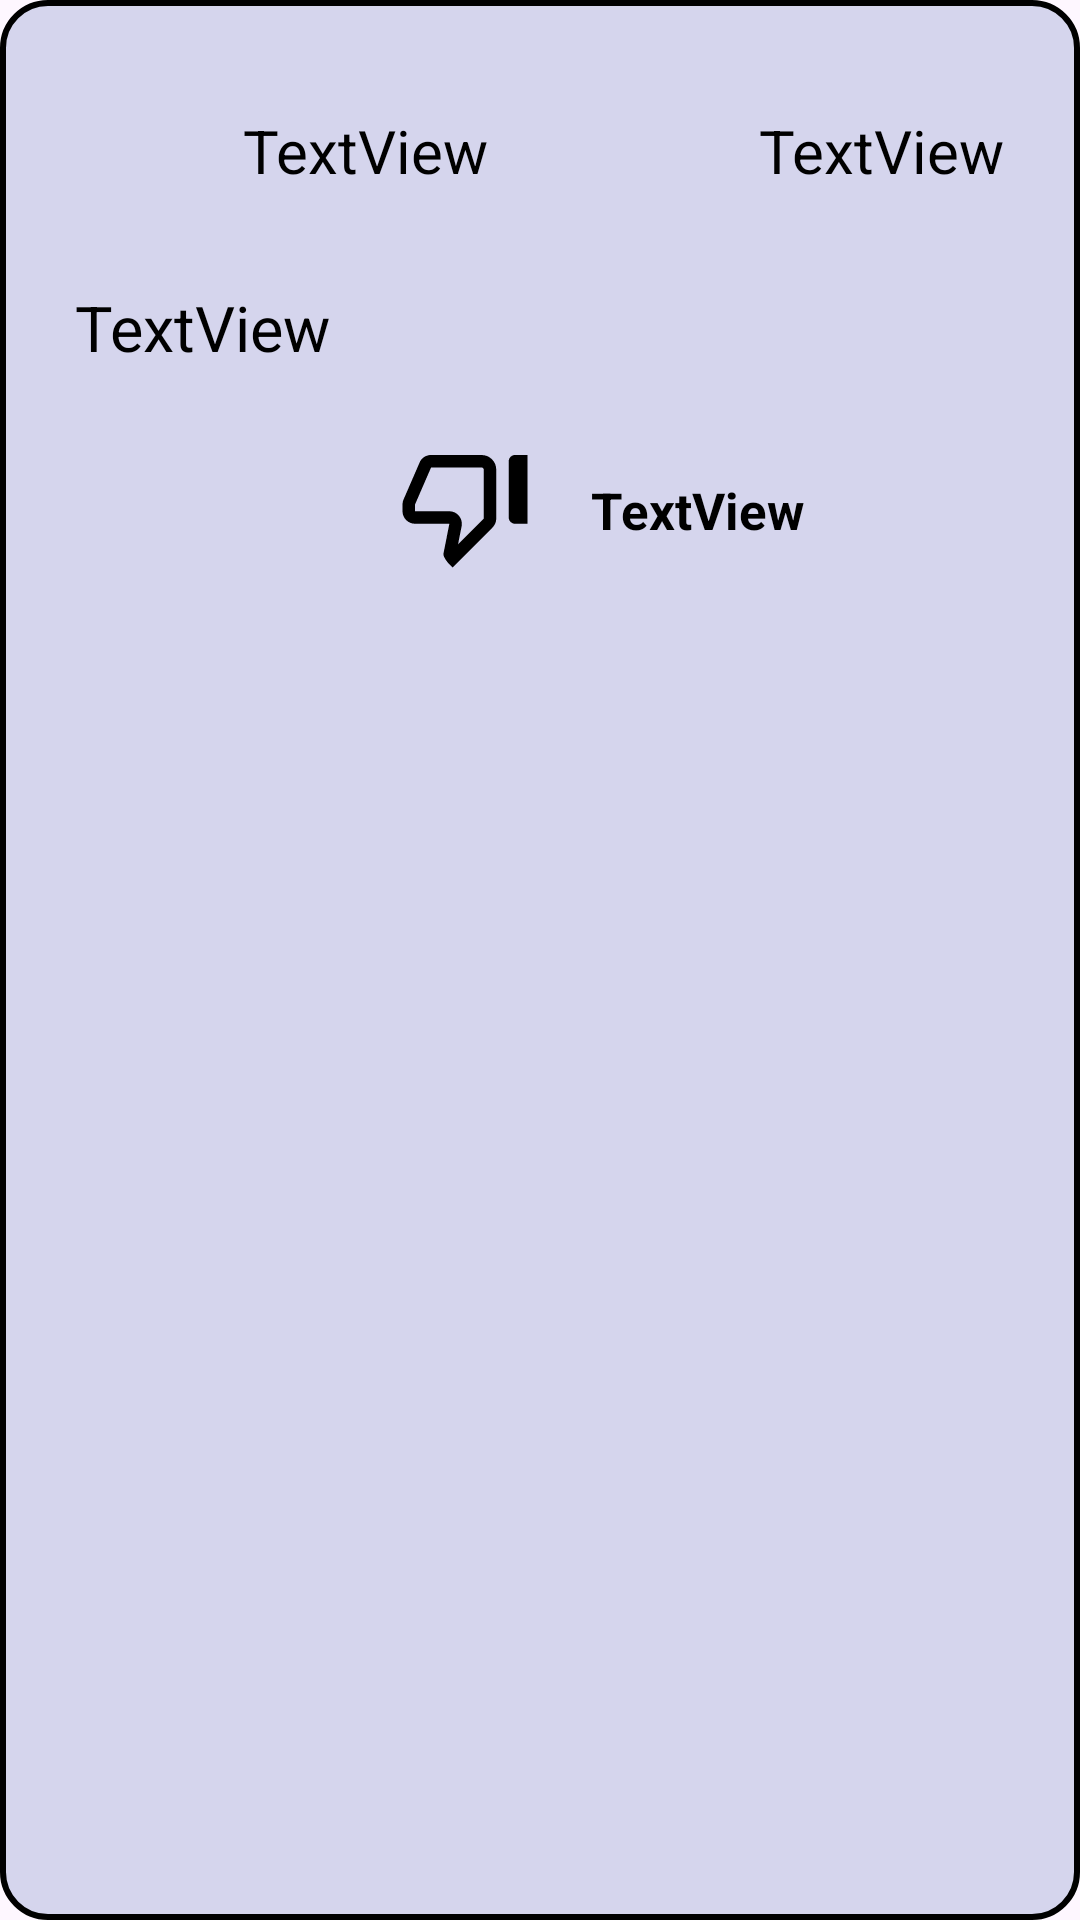

Screen size 1080*1920. Icon name, then its box in pixels as (x1, y1, x2, y2):
thumb down off: (402, 455, 528, 568)
